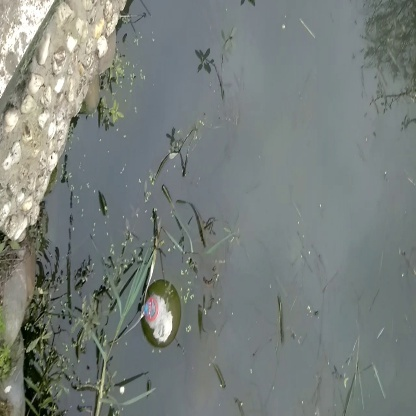plastic-bag: (139, 287, 188, 350)
